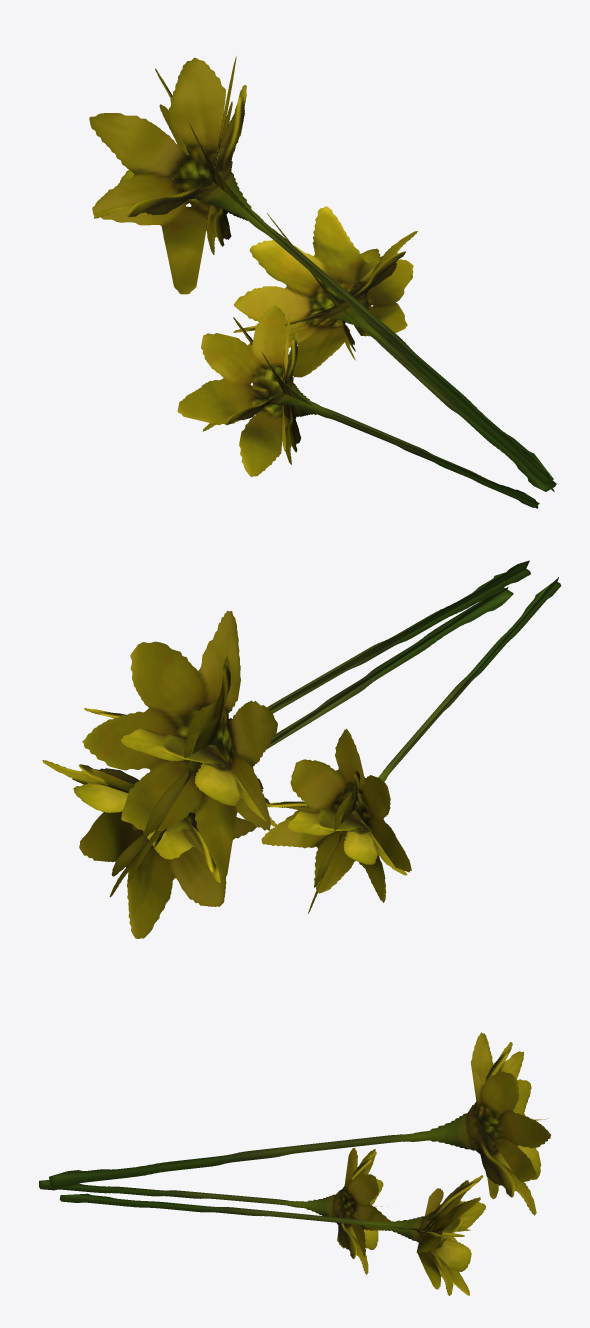
File: WildFlowers_Grp_02.fbx
The picture shows the model from 3 angles, top to bottom: view 1: azimuth 30°, elevation 25°; view 2: azimuth 150°, elevation 25°; view 3: azimuth 270°, elevation 25°; orthographic projection. The views are drawn at different scales.
Visible parts, largest first — view 1: WildFlowers_Grp_02; view 2: WildFlowers_Grp_02; view 3: WildFlowers_Grp_02.
Part boxes in pixels (box(x1,y1,x2,y2)): WildFlowers_Grp_02: box(89, 56, 556, 508); WildFlowers_Grp_02: box(42, 560, 561, 938); WildFlowers_Grp_02: box(39, 1032, 550, 1295).
Bounding box in the file's own units: 1.02 × 1.16 × 2.09.
